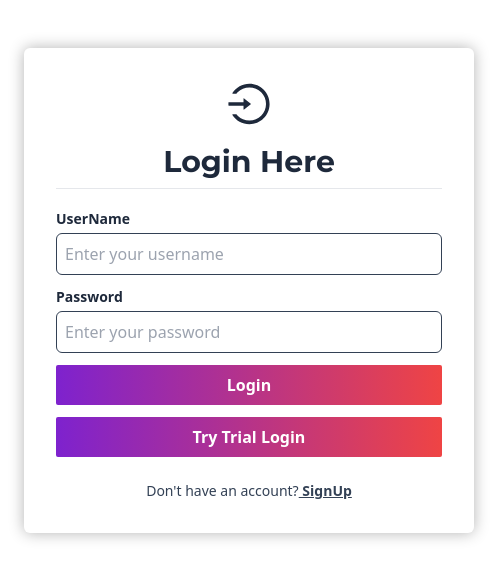
Test: Login Component › displays validation errors when form is submitted without values
The width and height of the screenshot is (499, 582).
Note: Submit the form without entering any values
Click the button with test id "login-button" at (249, 384), box x1=56 y1=364 x2=442 y2=404
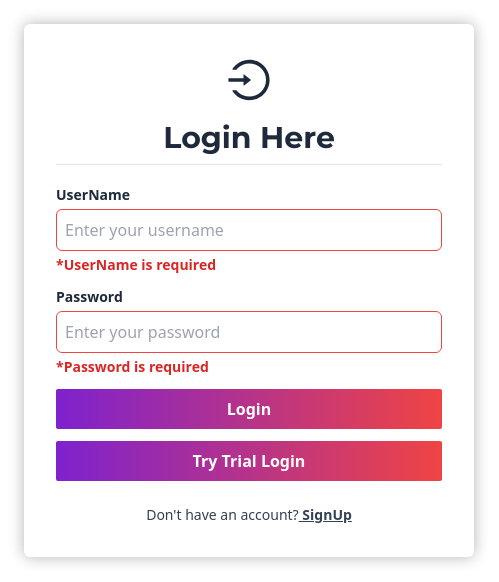
Result: the text "*UserName is required" is shown at x1=56 y1=254 x2=216 y2=274
Result: the text "*Password is required" is shown at x1=56 y1=356 x2=209 y2=376
